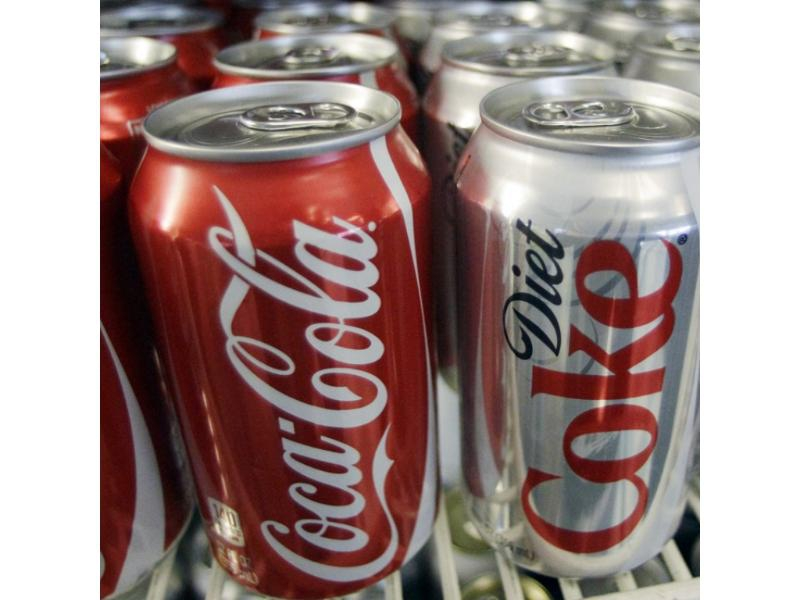can: (112, 72, 458, 597), (449, 86, 698, 578), (193, 26, 420, 87), (436, 26, 629, 95)
